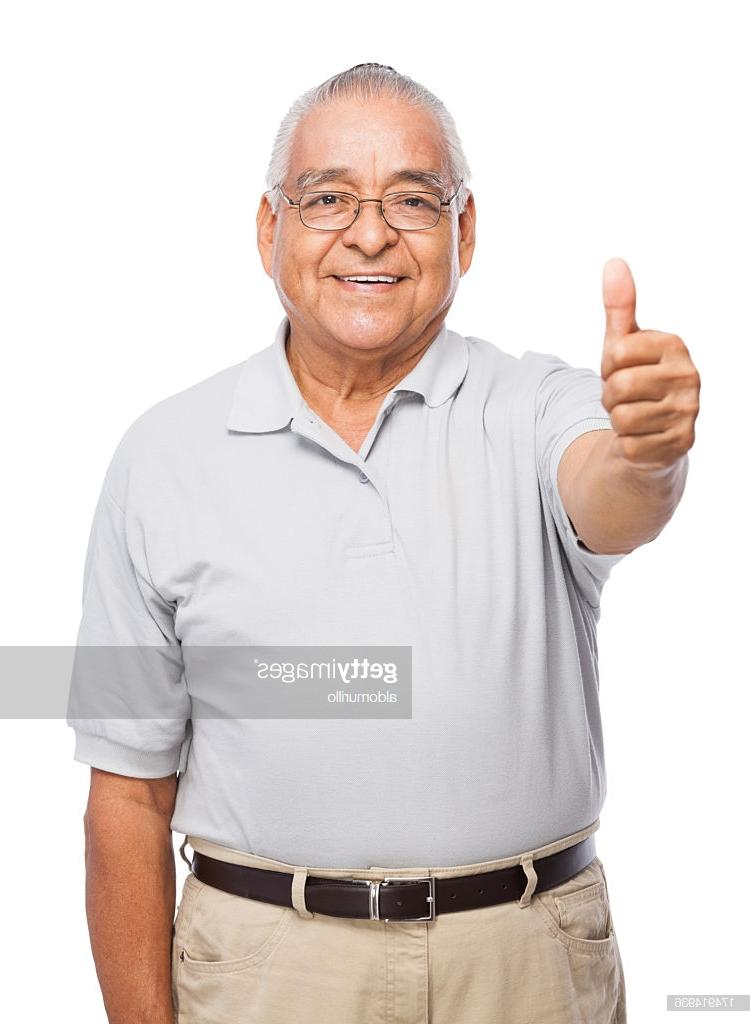thumbsup: (599, 255, 703, 465)
